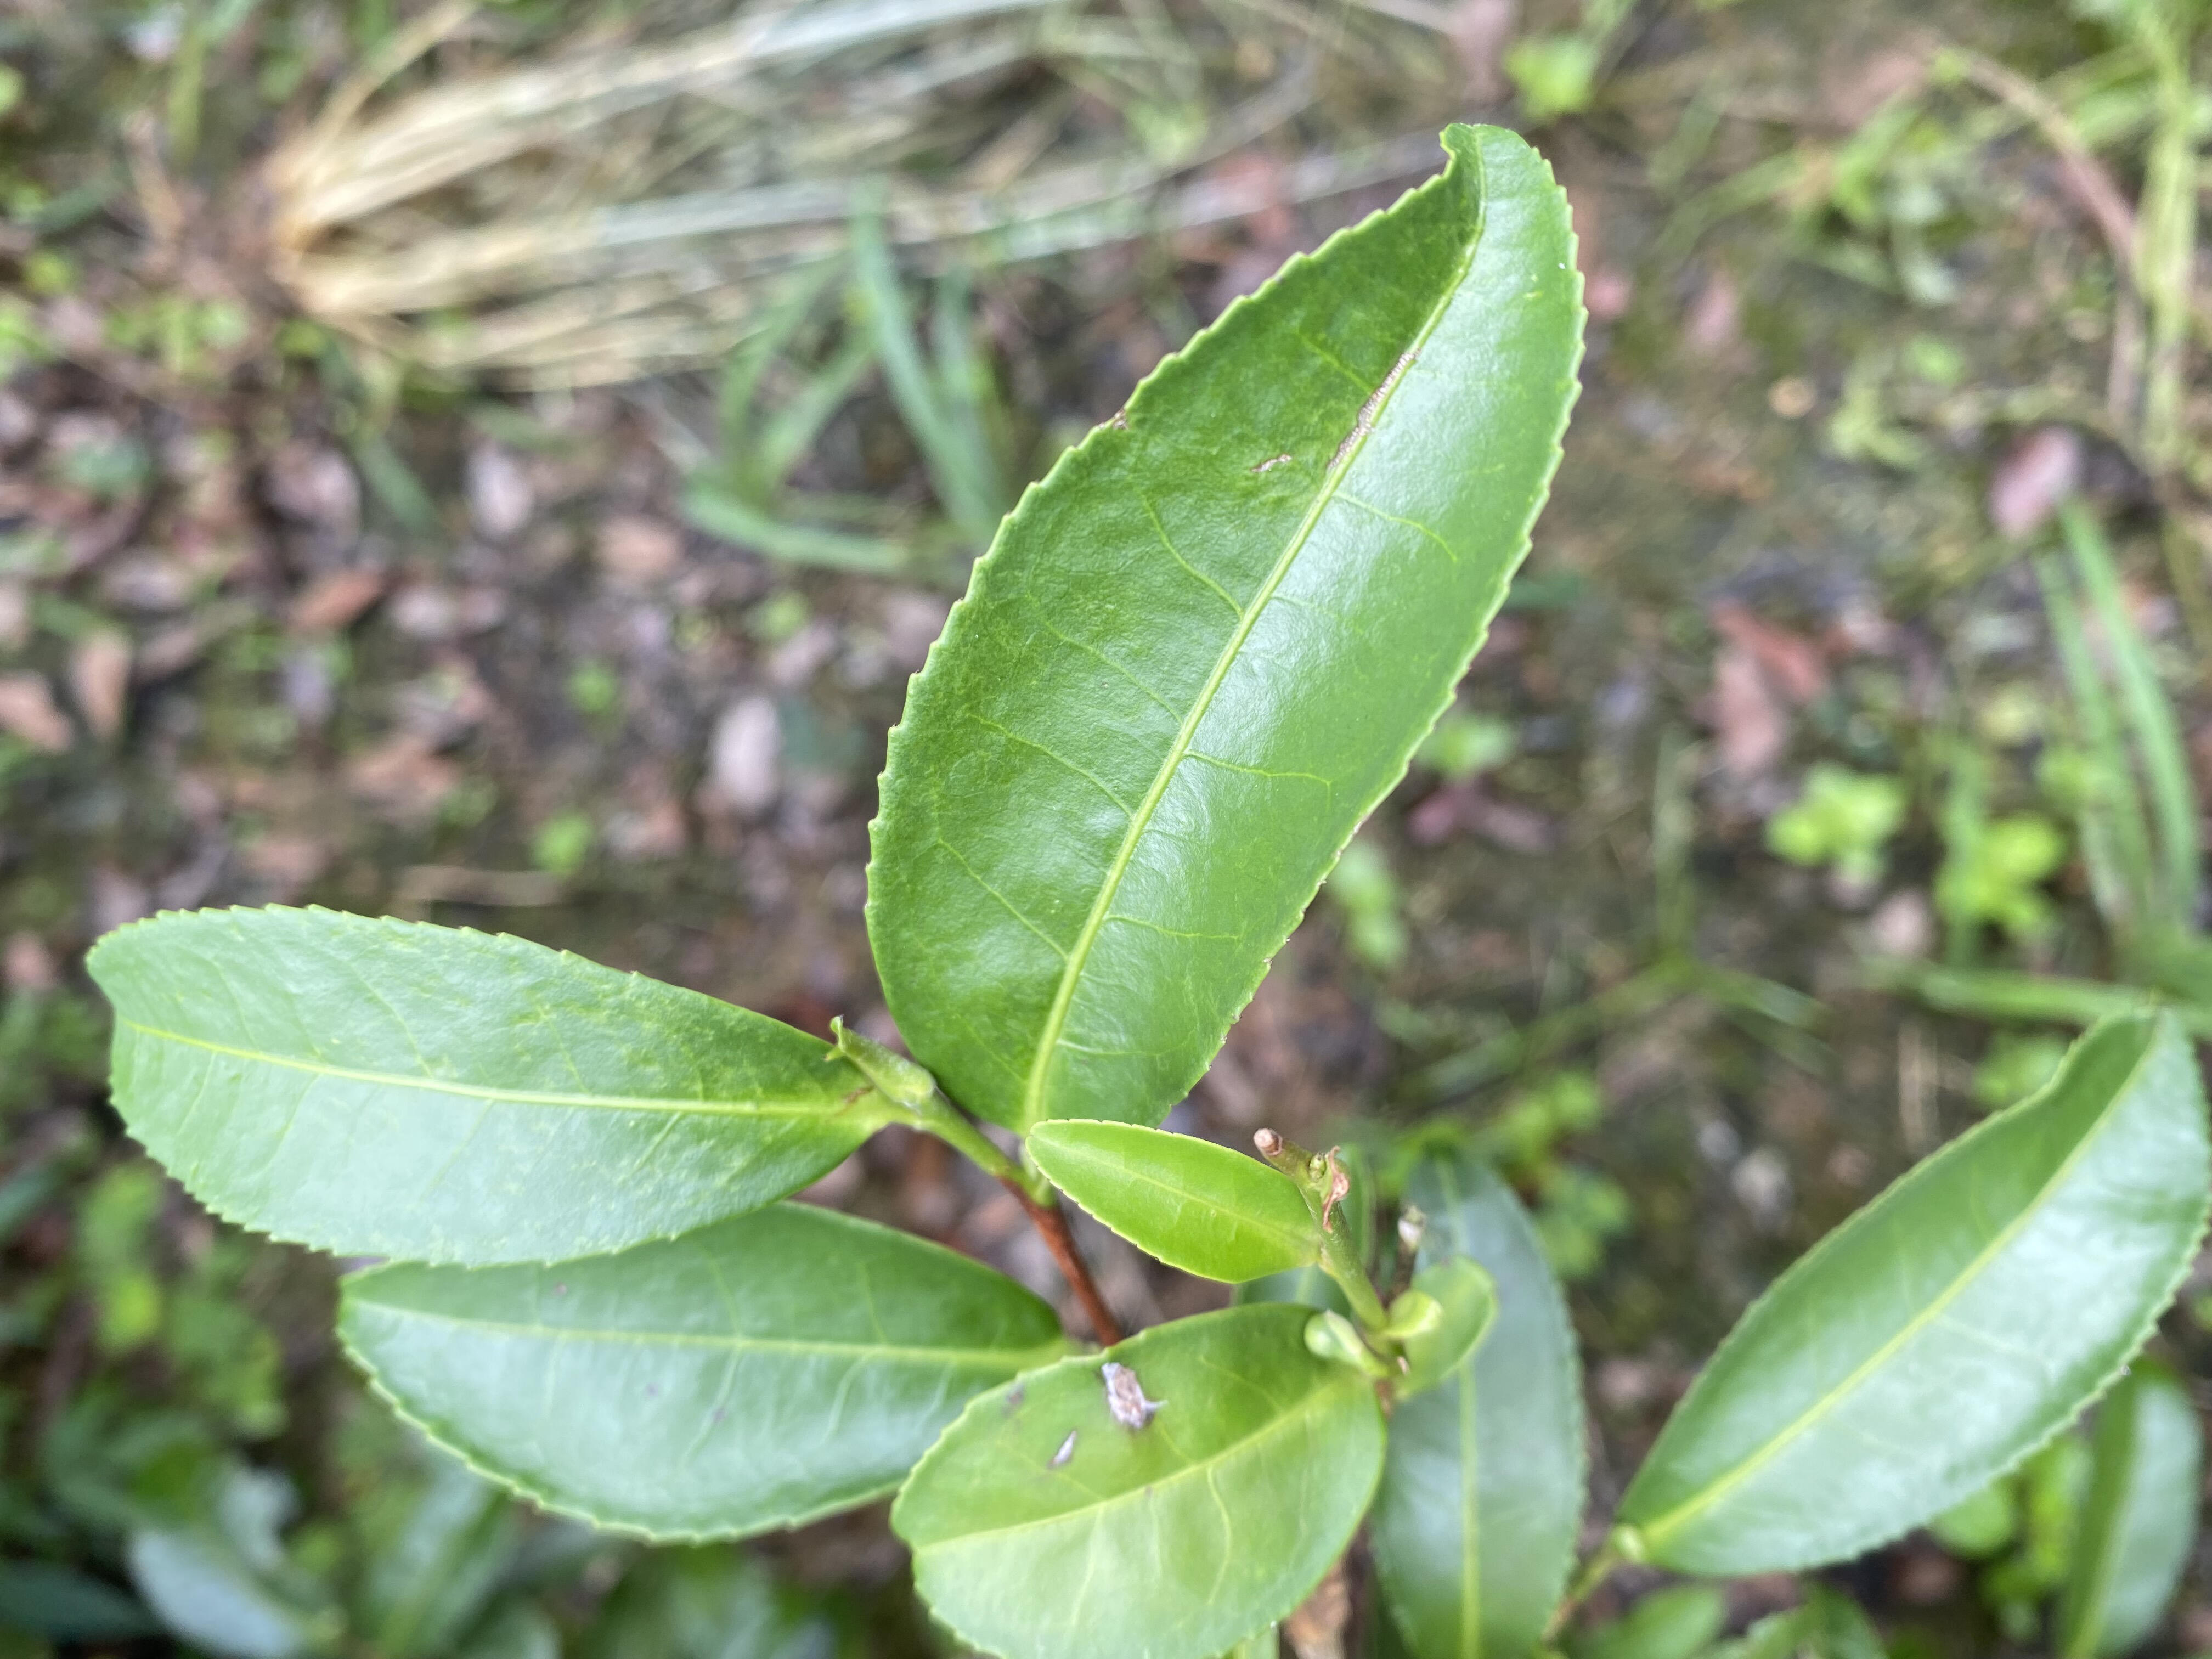healthy: (859, 120, 1587, 1131), (1622, 1007, 2212, 1577), (78, 899, 869, 1274), (334, 1202, 1052, 1541), (1024, 1119, 1318, 1286)
tanju_low: (899, 1302, 1385, 1652)
